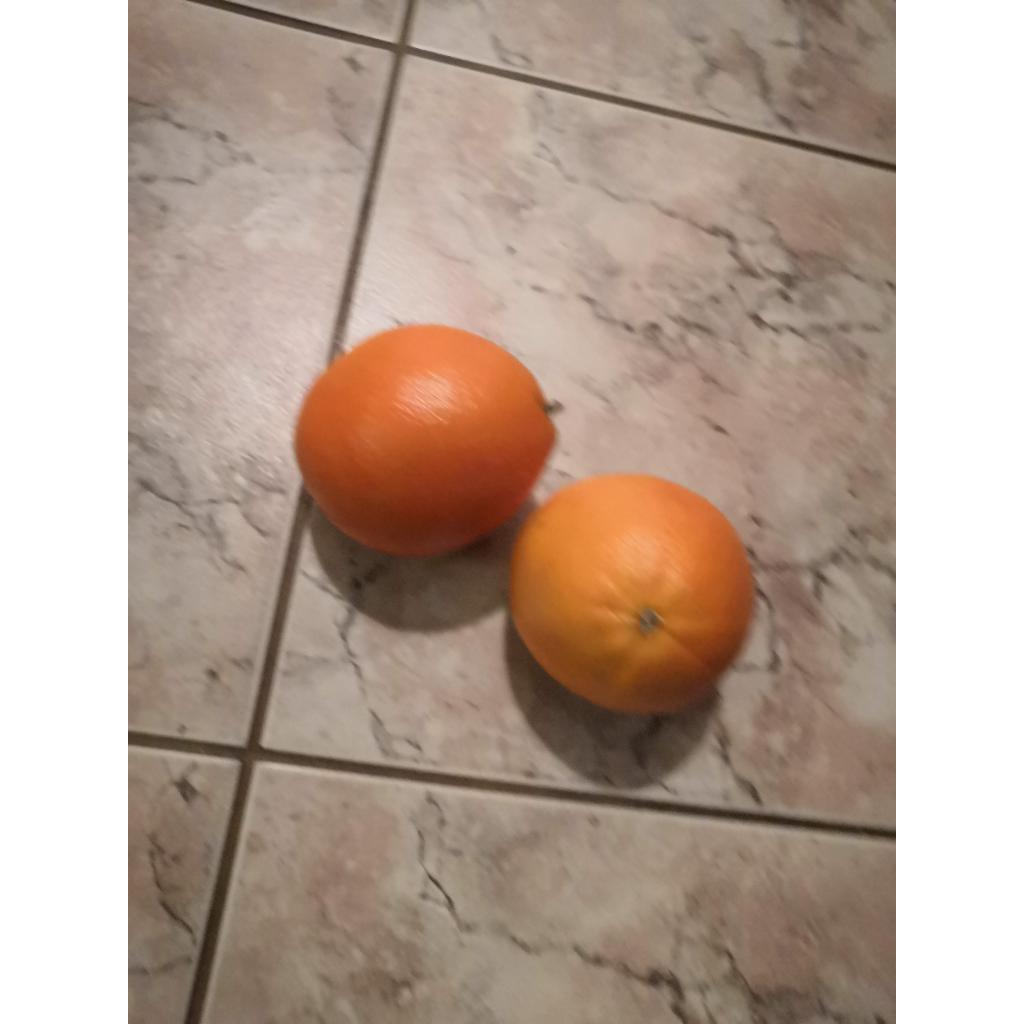orange: (294, 324, 556, 556), (510, 474, 754, 714)
